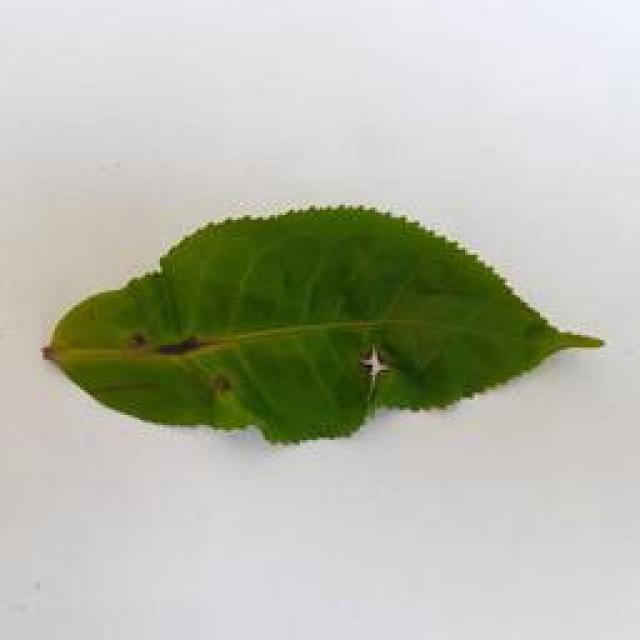Helopeltis: (31, 204, 622, 448)
